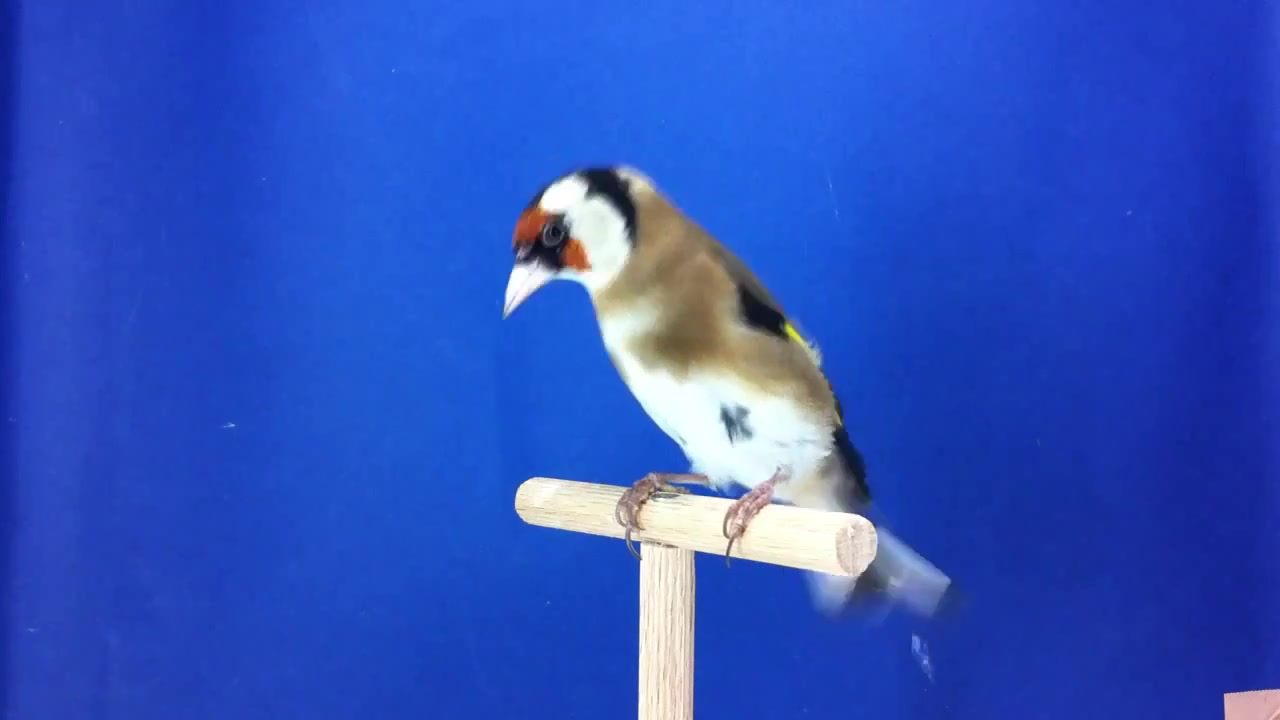bird: (501, 167, 954, 626)
